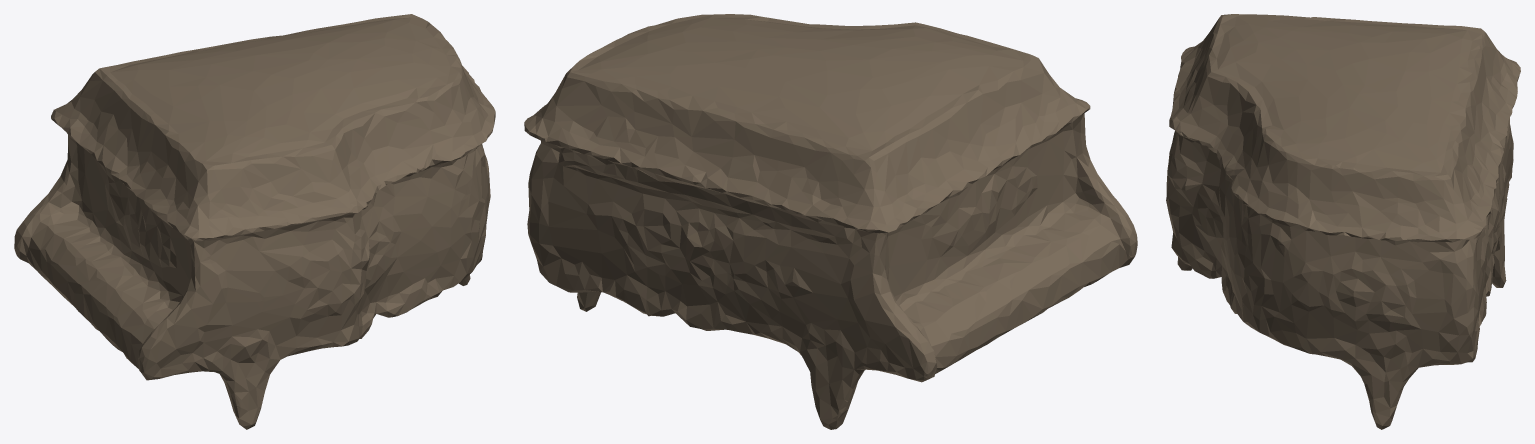
The model's file is MusicBoxObj.fbx.
3 renders of one model, left to right at view 1: azimuth 30°, elevation 25°; view 2: azimuth 150°, elevation 25°; view 3: azimuth 270°, elevation 25°, orthographic. The views are drawn at different scales.
Visible parts, largest first — view 1: MusicBoxObj; view 2: MusicBoxObj; view 3: MusicBoxObj.
Boxes of the visible parts, x1=… form: MusicBoxObj: x1=14, y1=14, x2=495, y2=429; MusicBoxObj: x1=524, y1=14, x2=1137, y2=429; MusicBoxObj: x1=1166, y1=14, x2=1520, y2=429.
Bounding box in the file's own units: 23.69 × 14.19 × 17.1.
